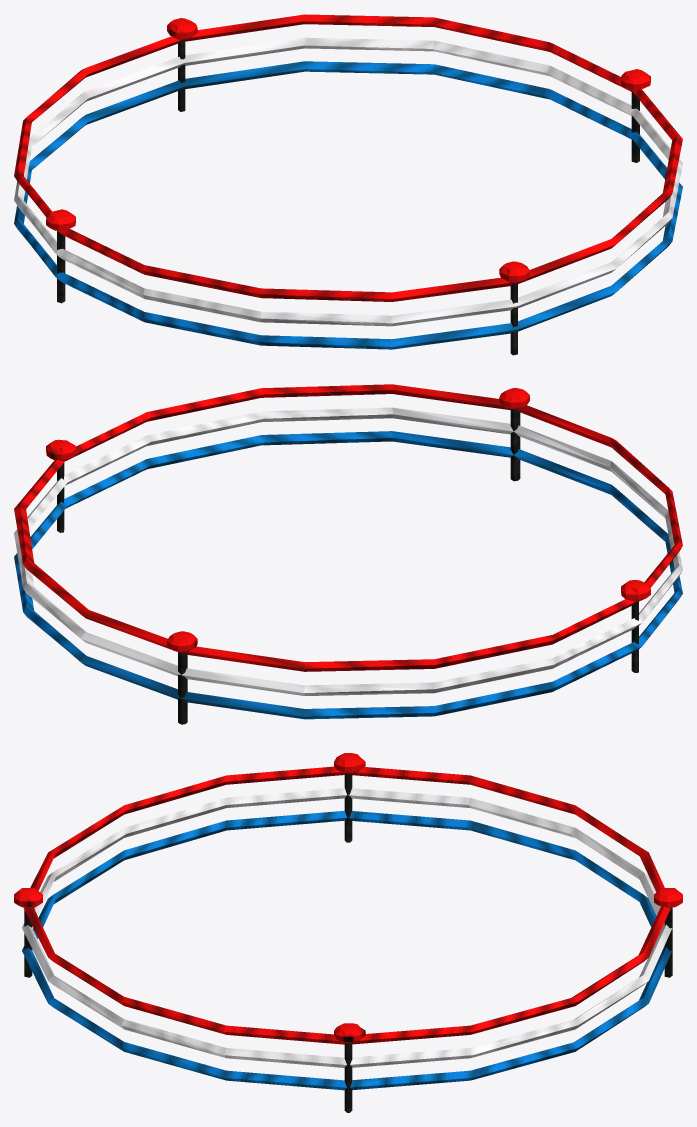
Rendered from ZiraRing.glb.
3 renders of one model, top to bottom at view 1: azimuth 30°, elevation 25°; view 2: azimuth 150°, elevation 25°; view 3: azimuth 270°, elevation 25°, orthographic. The views are drawn at different scales.
Parts seen in each view (by area): view 1: ZiraRing; view 2: ZiraRing; view 3: ZiraRing.
Boxes of the visible parts, box(x1,y1,x2,y2) form: ZiraRing: box(14, 14, 682, 355); ZiraRing: box(14, 384, 682, 724); ZiraRing: box(14, 753, 682, 1112).
Size of the model in its own units: 396 by 55.73 by 397.
Materials: 1 (1 with a texture image).
